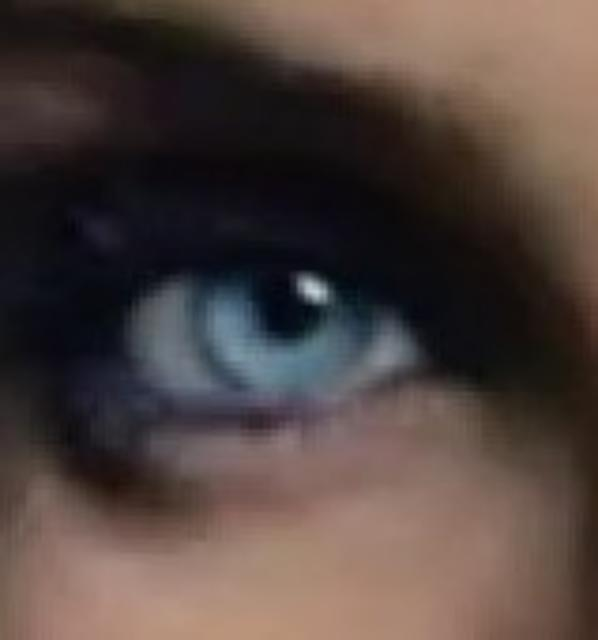eye: (184, 255, 388, 410)
